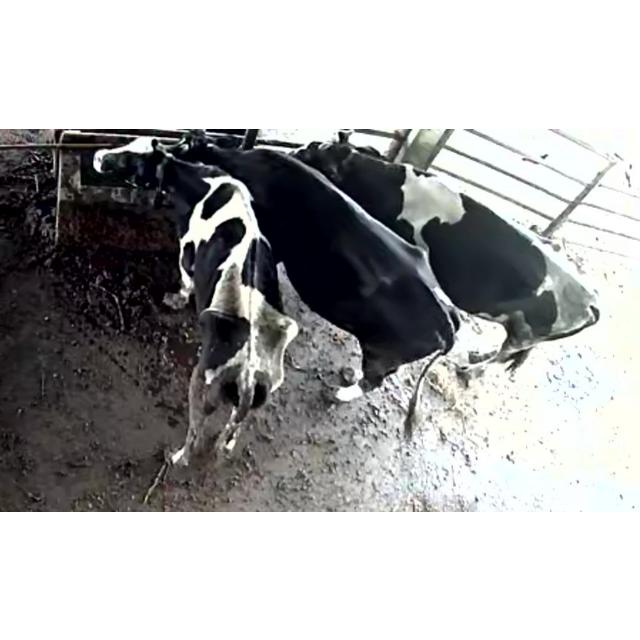drink: (168, 131, 274, 189)
